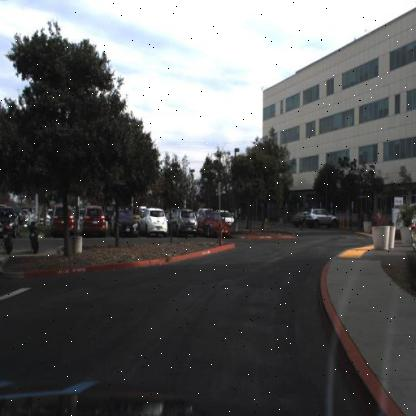car: (196, 208, 230, 238), (138, 206, 169, 236), (50, 202, 75, 238), (304, 205, 340, 230), (110, 208, 140, 237), (168, 207, 198, 236), (81, 204, 107, 237), (0, 205, 21, 237), (220, 208, 234, 226)
